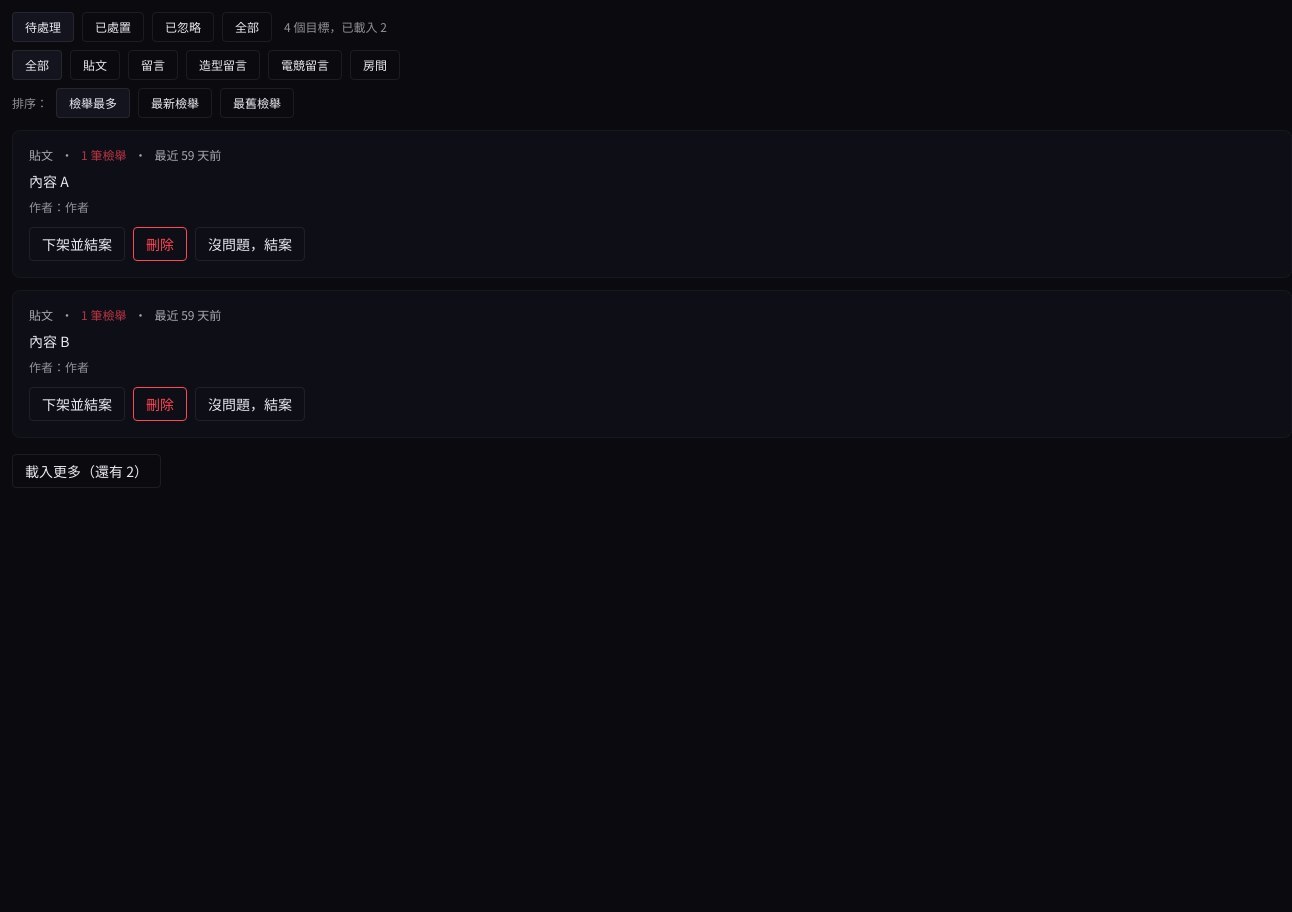
Test: ReportsTab paging › never stores a second copy of a target, so draining the page skips nothing
Expected: the text "內容 B" is shown, [29,331,69,351]
Click the button "載入更多（還有 2）".
click(86, 471)  # box [12,454,161,488]
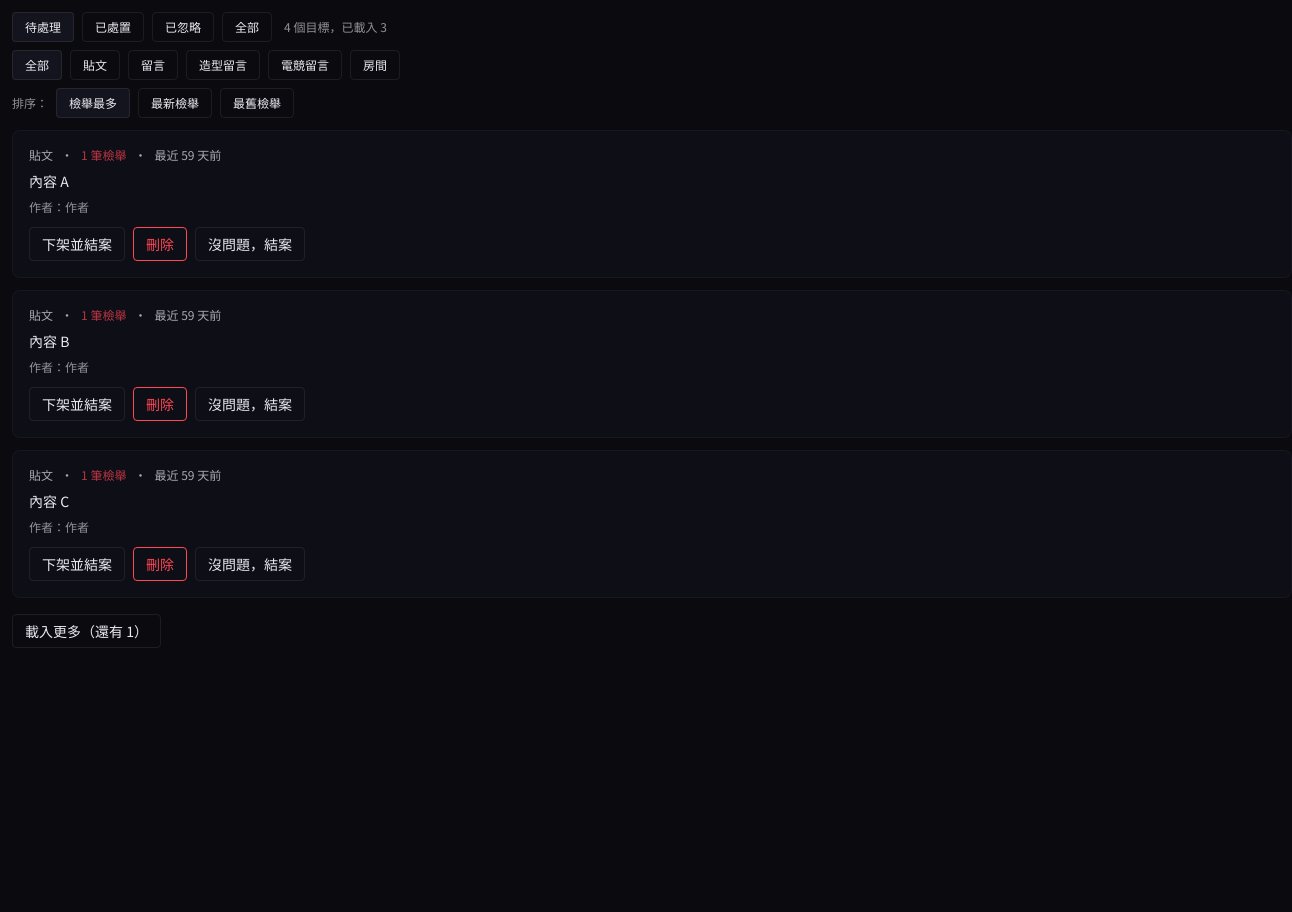
Result: the text "4 個目標，已載入 3" is shown at [284,19,387,35]
Click the button "沒問題，結案" below "內容 A".
click(250, 244)  # box [195,227,305,261]
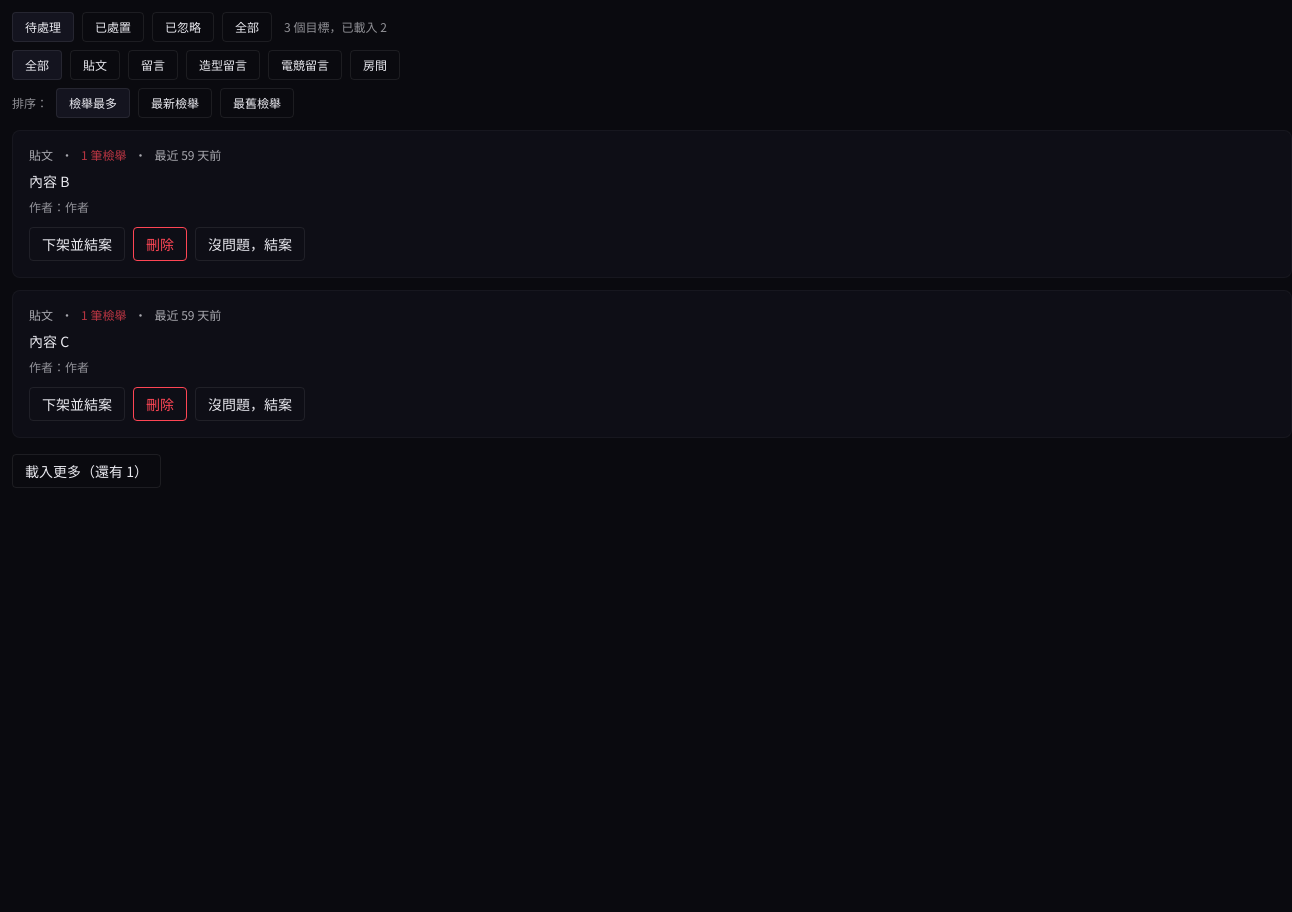
Click the button "沒問題，結案" below "內容 B".
click(250, 244)  # box [195,227,305,261]
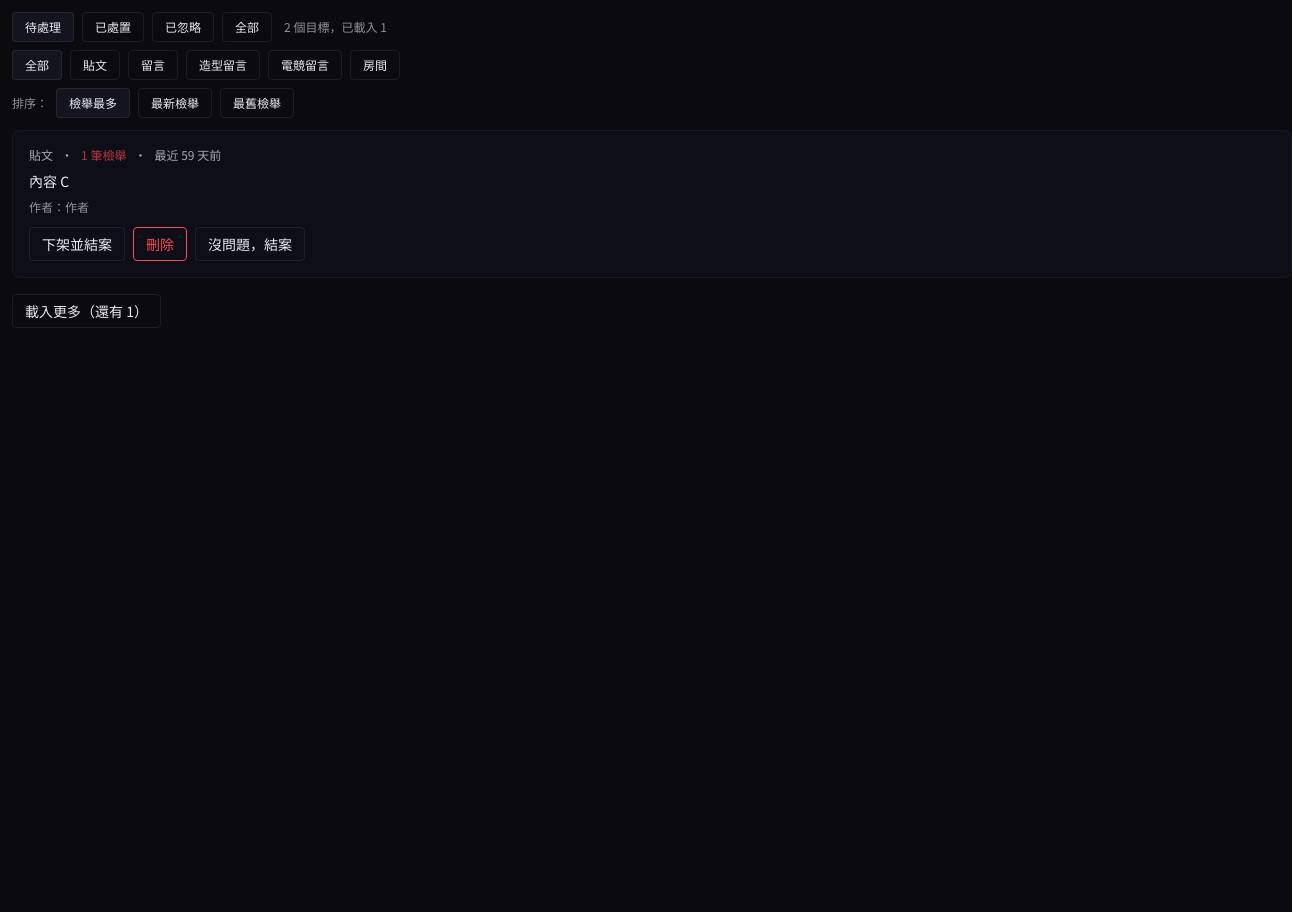
Result: the text "內容 B" is gone
Click the button "沒問題，結案".
click(250, 244)  # box [195,227,305,261]
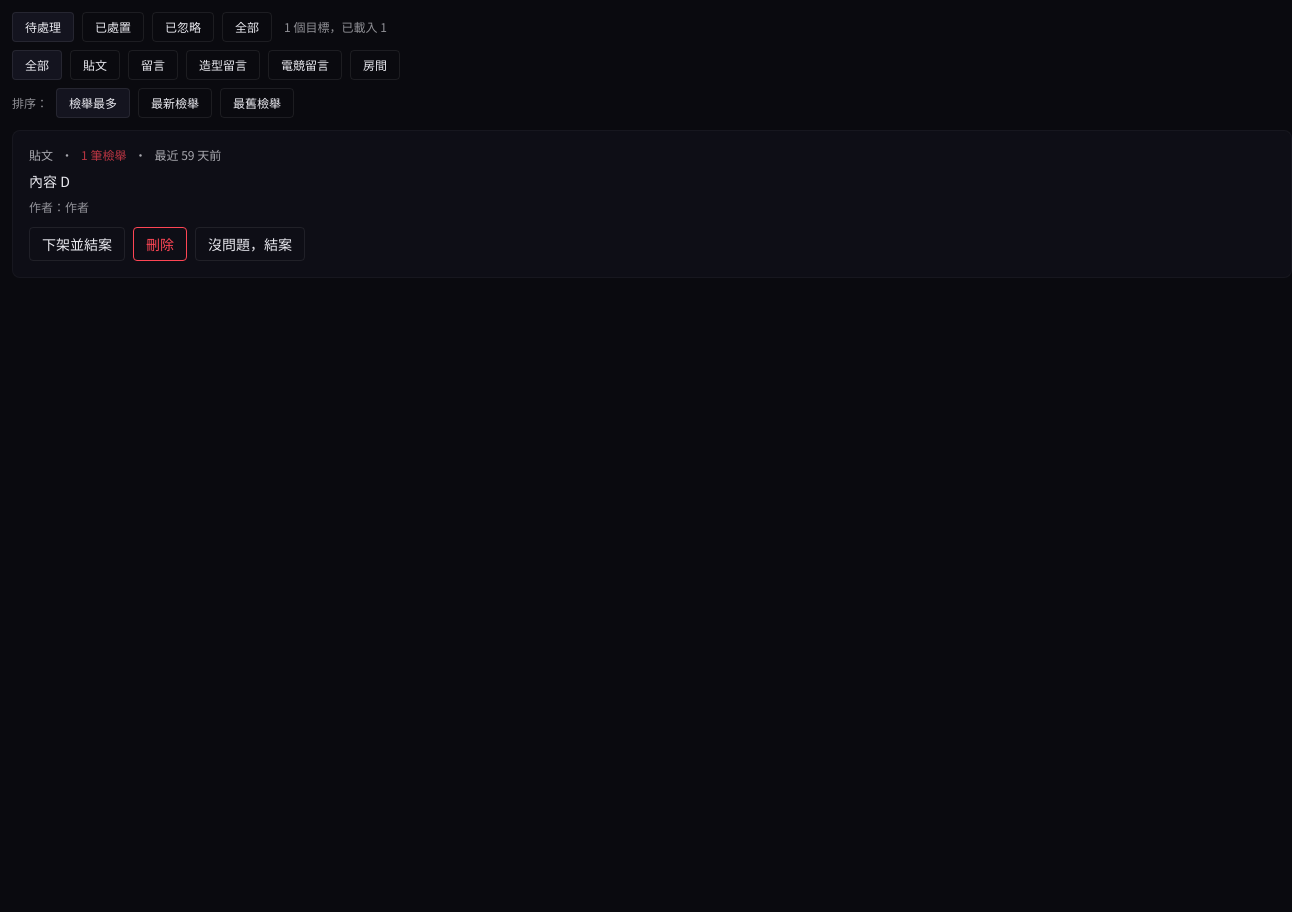
Result: the text "內容 D" is shown at [29,171,70,191]
Result: the text "1 個目標，已載入 1" is shown at [284,19,387,35]
